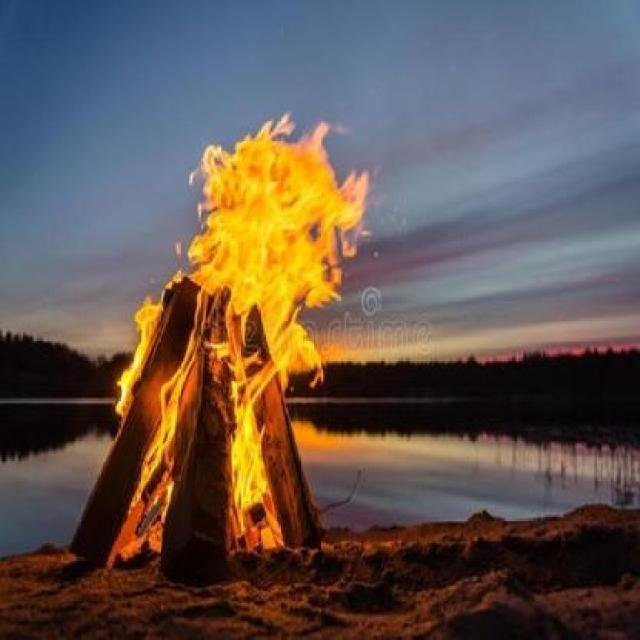Fire: (114, 110, 373, 576)
